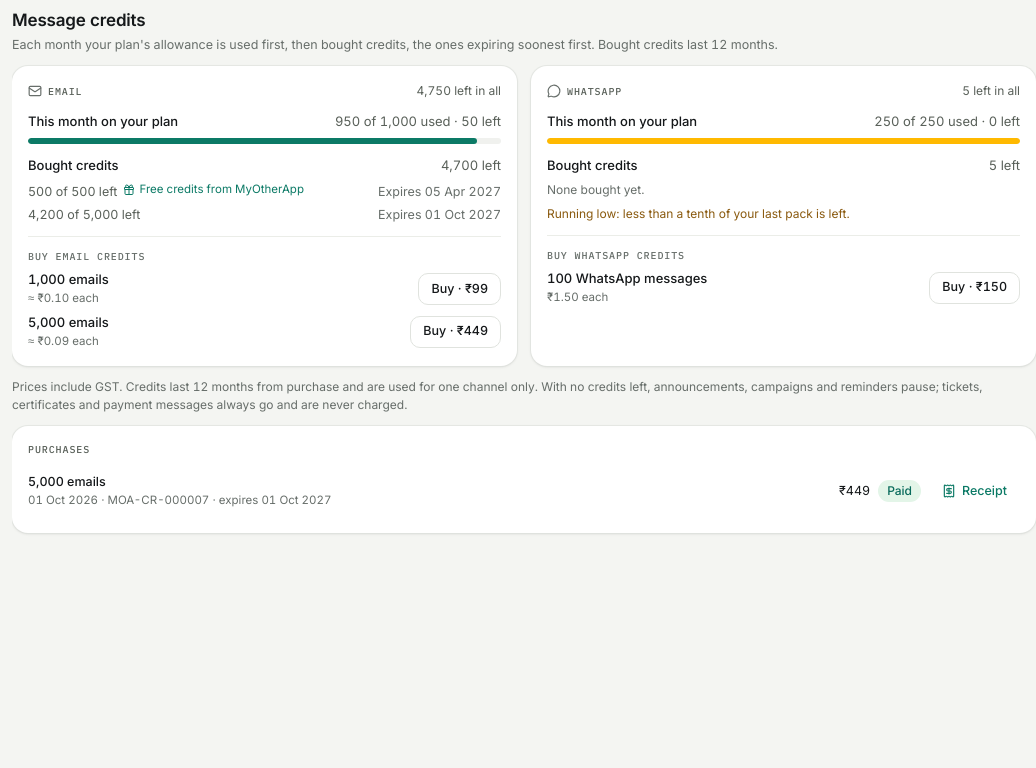
Test: buying a pack › says nothing was charged when checkout is closed, and verifies nothing
The image size is (1036, 768).
Click the button with aria-label "Buy 5,000 emails for ₹449". click: (456,332)
box: [410,316,501,348]
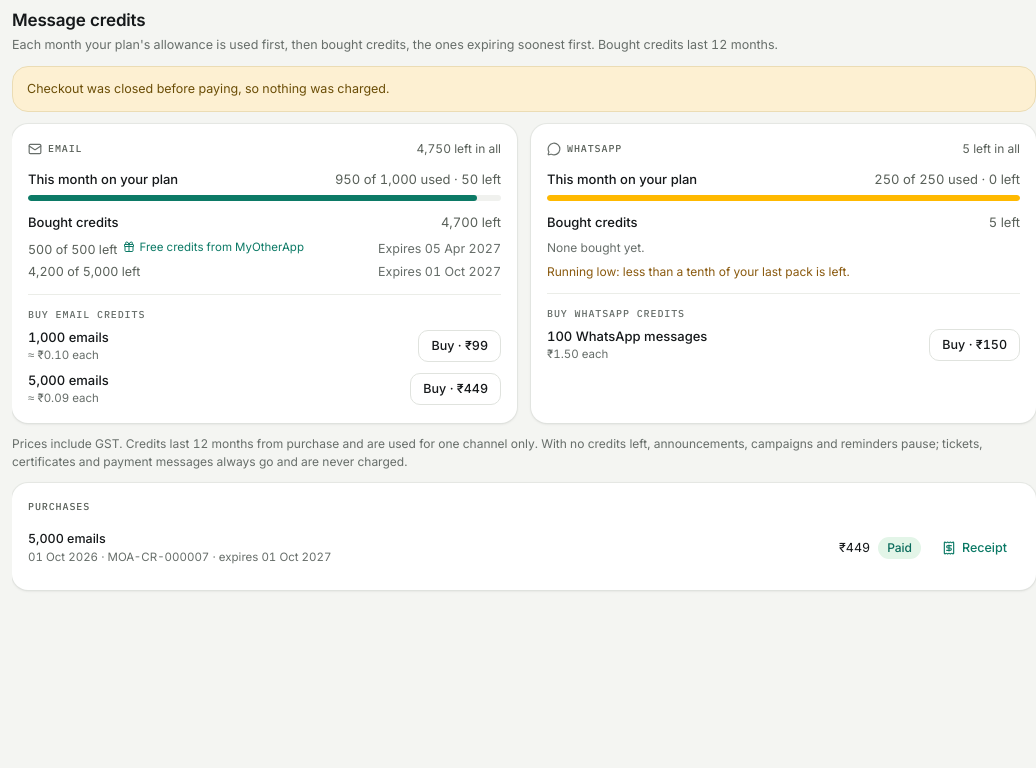
Now the text "Checkout was closed before paying, so nothing was charged." is shown, box [27,81,389,96]
